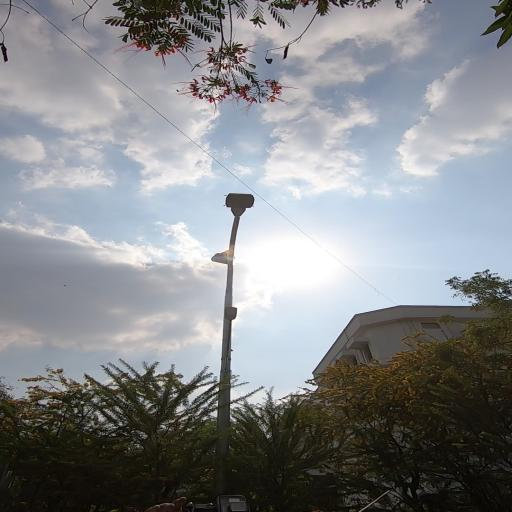Street_light: (220, 189, 260, 232)
